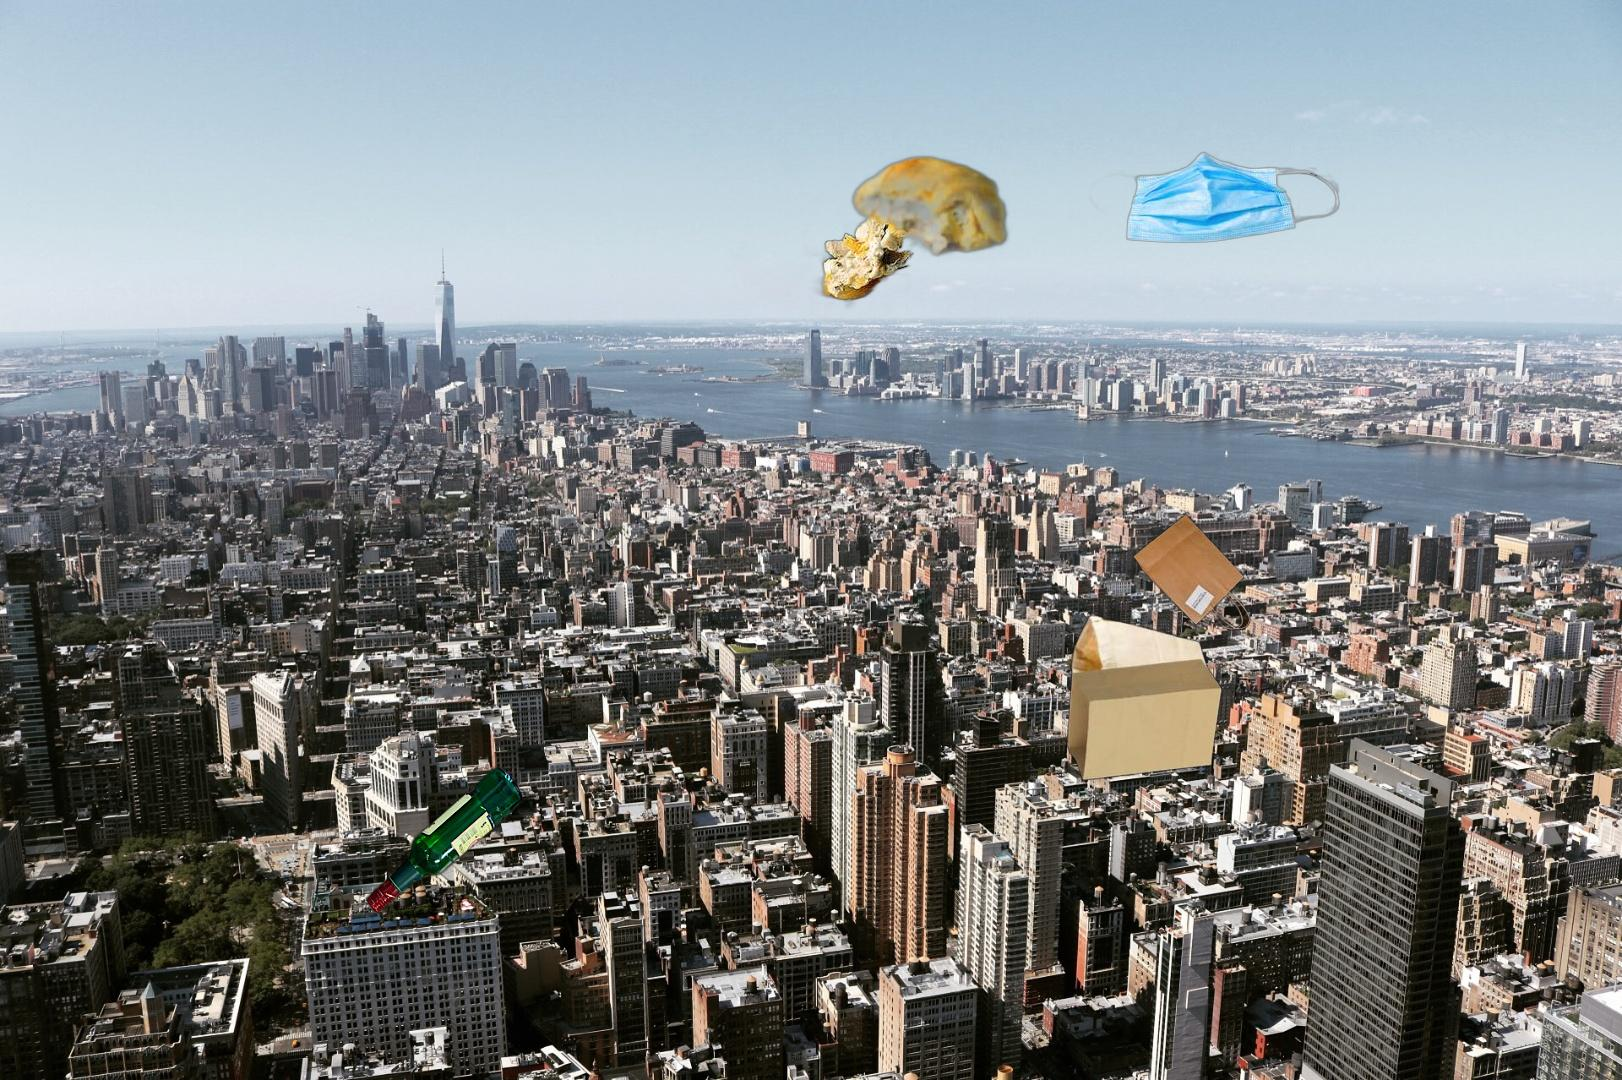biological: (722, 146, 1025, 344)
glass: (362, 762, 528, 918)
paper-bag: (1050, 512, 1254, 803)
trash: (1088, 149, 1342, 246)
